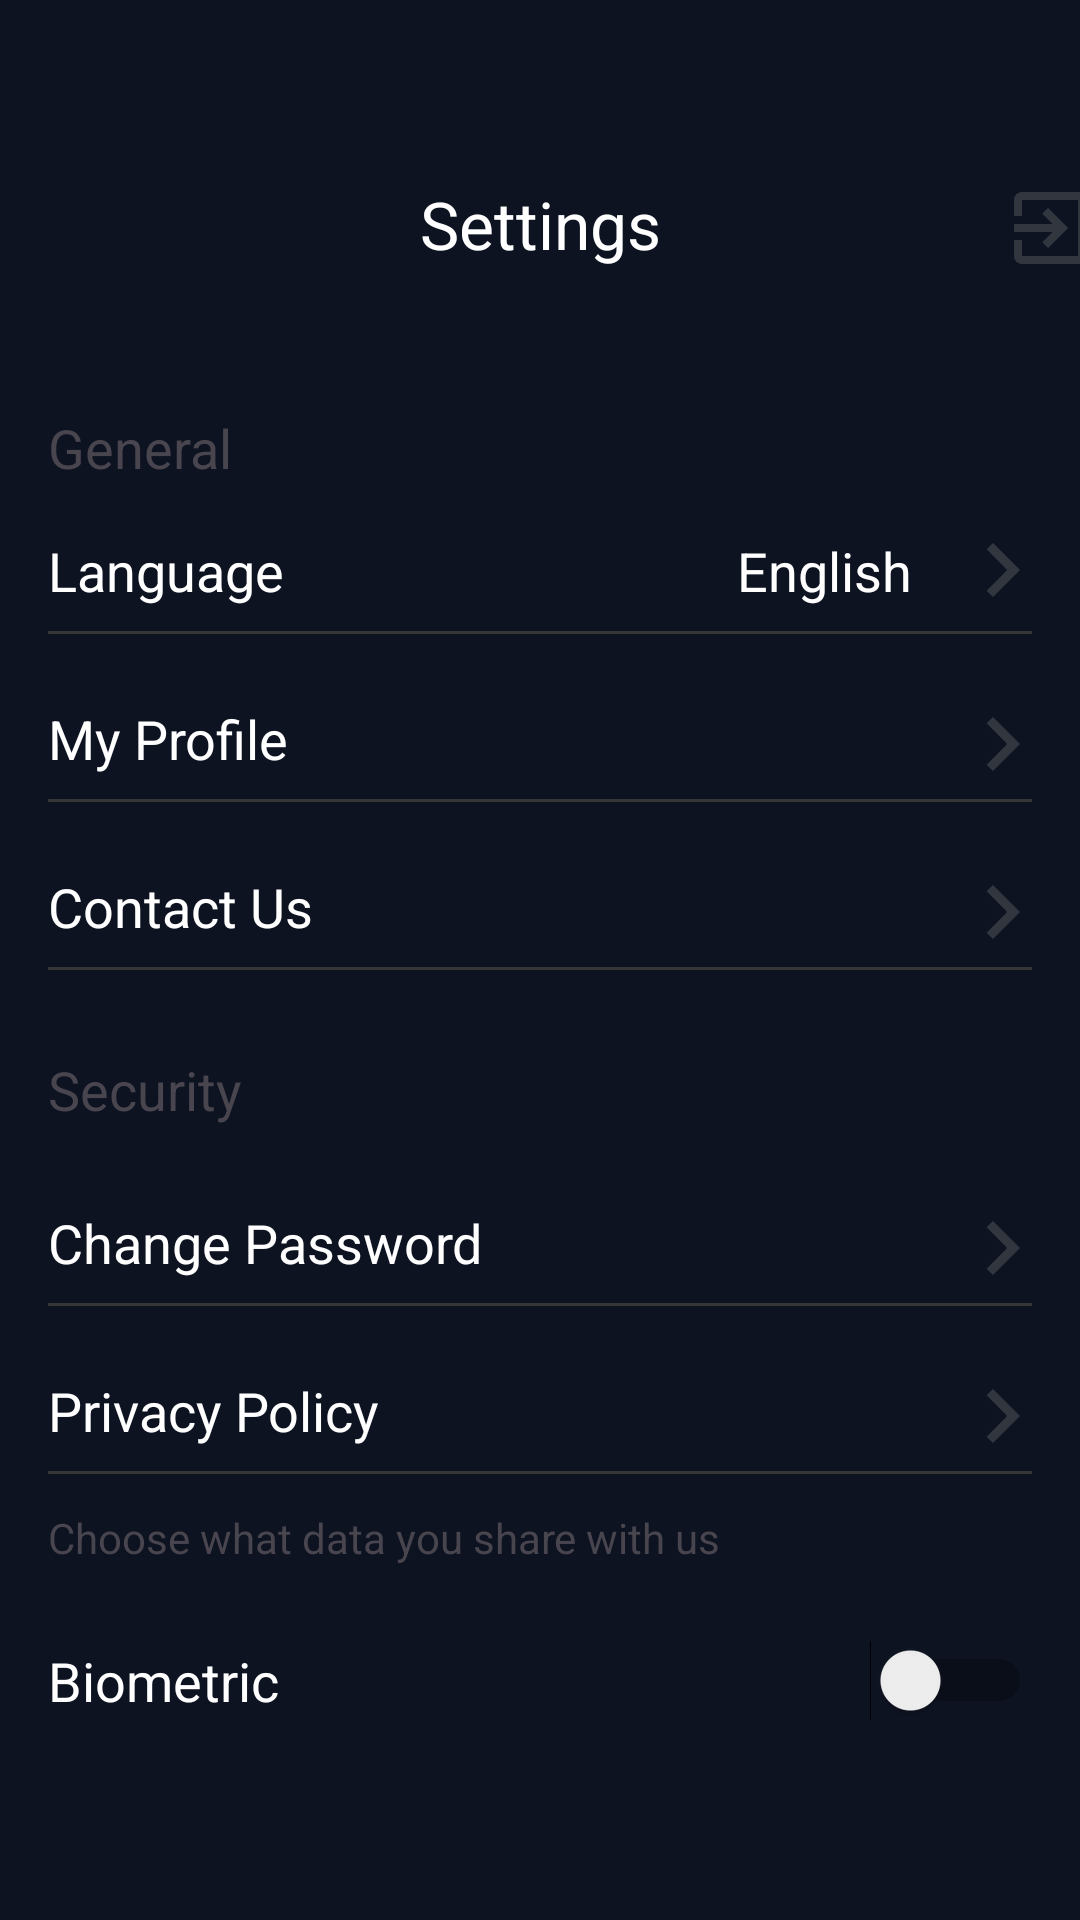

Icons on this 1080*1920 Android screen, each with its box as bbox=(x1, y1, x2, y2):
keyboard arrow right: bbox=(987, 544, 1019, 596), bbox=(987, 718, 1019, 770), bbox=(987, 886, 1019, 938), bbox=(987, 1222, 1019, 1274), bbox=(987, 1390, 1019, 1442)
